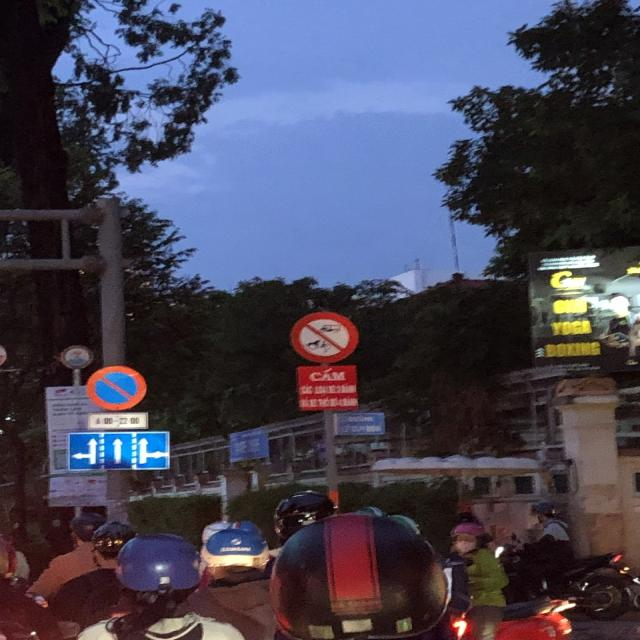Bien bao cam do xe: (77, 358, 155, 414)
